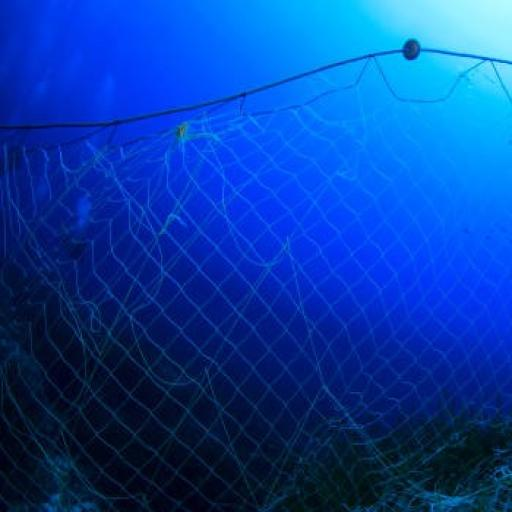net: (0, 38, 512, 511)
